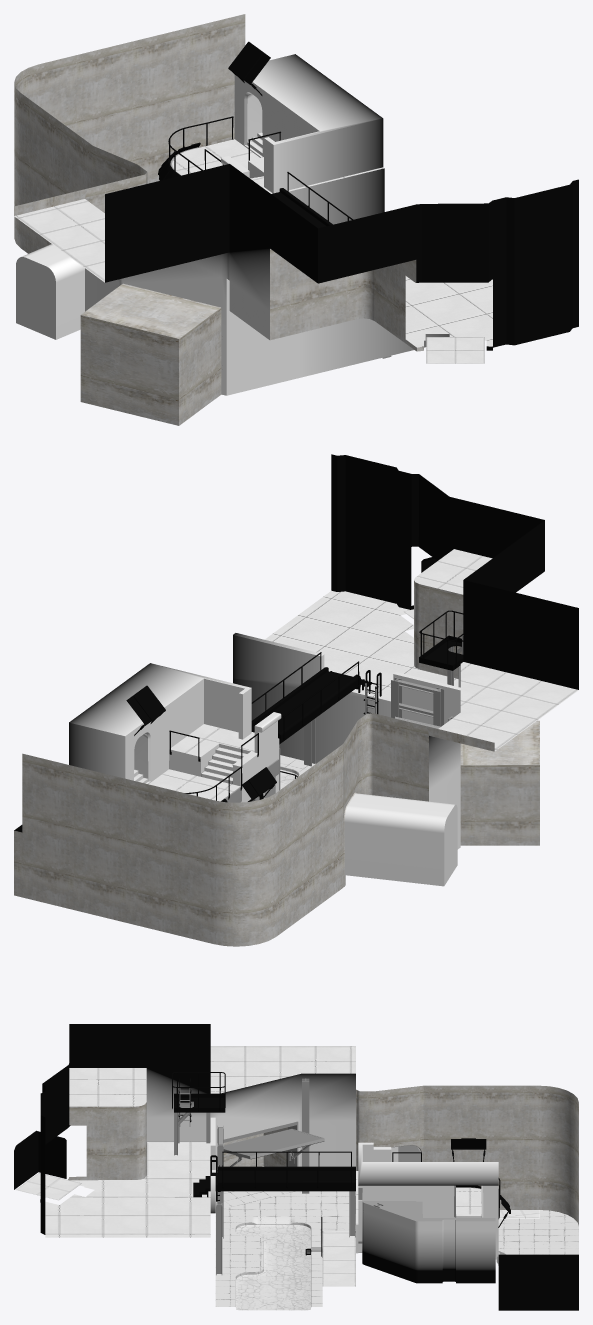
The model's file is StreetStructure.fbx.
3 renders of one model, top to bottom at view 1: azimuth 30°, elevation 25°; view 2: azimuth 150°, elevation 25°; view 3: azimuth 270°, elevation 25°, orthographic. The views are drawn at different scales.
Parts seen in each view (by area): view 1: StreetMainWalls, StreetMainGarage, StreetMain, StreetFloors, StreetMainAlley, ShopStruts, StreetBridge, StreetRailings; view 2: StreetMainWalls, StreetMainGarage, StreetMain, StreetFloors, StreetMainAlley, StreetBridge, StreetRailings, StreetGirders, ShopStruts; view 3: StreetMainWalls, StreetFloors, StreetMainGarage, StreetMain, StreetPavements, StreetRoad, StreetBridge, StreetGirders, StreetGarage, StreetRailings, StreetShopCeiling, StreetPavementEdge (+2 smaller).
Part boxes in pixels (x1,y1,x2,y2): StreetMainWalls: (14,14,423,425); StreetMainGarage: (85,164,578,395); StreetMain: (16,54,384,339); StreetFloors: (14,132,492,363); StreetMainAlley: (226,279,449,395); ShopStruts: (158,41,270,180); StreetBridge: (271,172,353,228); StreetRailings: (168,116,280,173); StreetMainWalls: (14,580,539,946); StreetMainGarage: (331,454,578,849); StreetMain: (14,663,457,886); StreetFloors: (134,549,578,801); StreetMainAlley: (233,633,460,763); StreetBridge: (251,652,371,744); StreetRailings: (169,610,463,800); StreetGirders: (251,646,461,801); ShopStruts: (126,685,276,802); StreetMainWalls: (68,1085,578,1225); StreetFloors: (16,1046,481,1286); StreetMainGarage: (14,1024,355,1234); StreetMain: (307,1142,578,1310); StreetPavements: (215,1166,578,1306); StreetRoad: (236,1225,310,1310); StreetBridge: (193,1151,355,1197); StreetGirders: (174,1078,383,1275); StreetGarage: (223,1121,324,1166); StreetRailings: (172,1072,500,1257); StreetShopCeiling: (362,1193,495,1221); StreetPavementEdge: (235,1210,539,1306).
Size of the model in its own units: 1518 by 917 by 2447.
